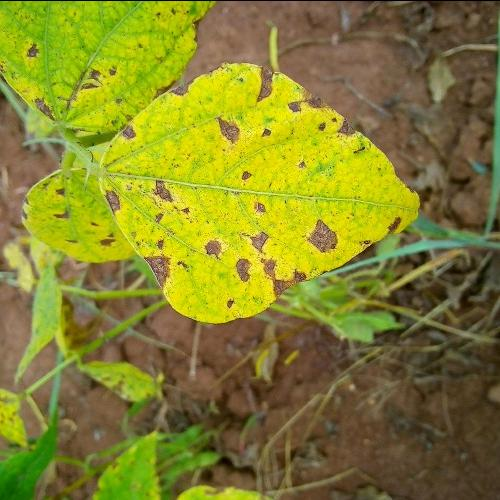hawar: (138, 114, 348, 254), (3, 13, 156, 124)
